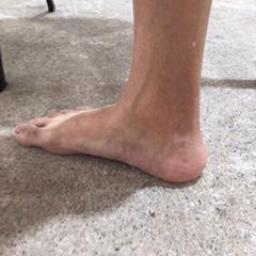Medial View -Right Foot-: (8, 62, 218, 200)
